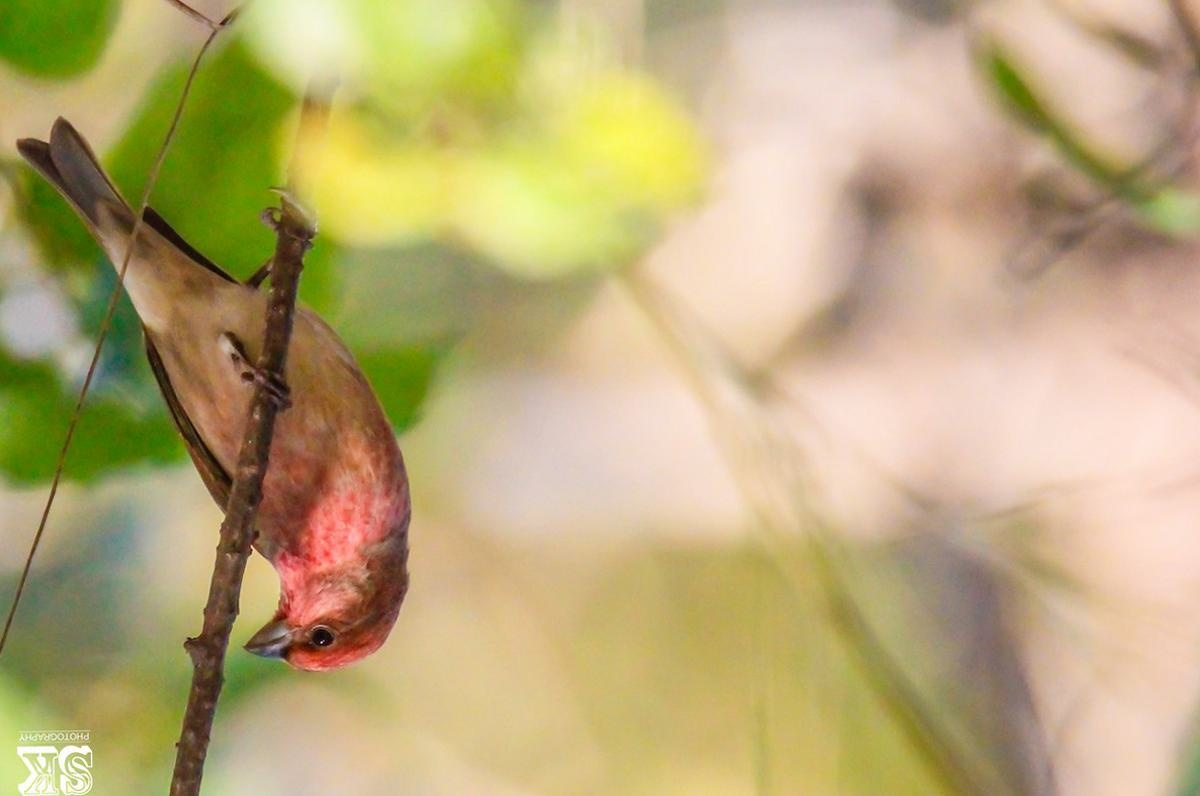rosefinch: (90, 202, 429, 673)
